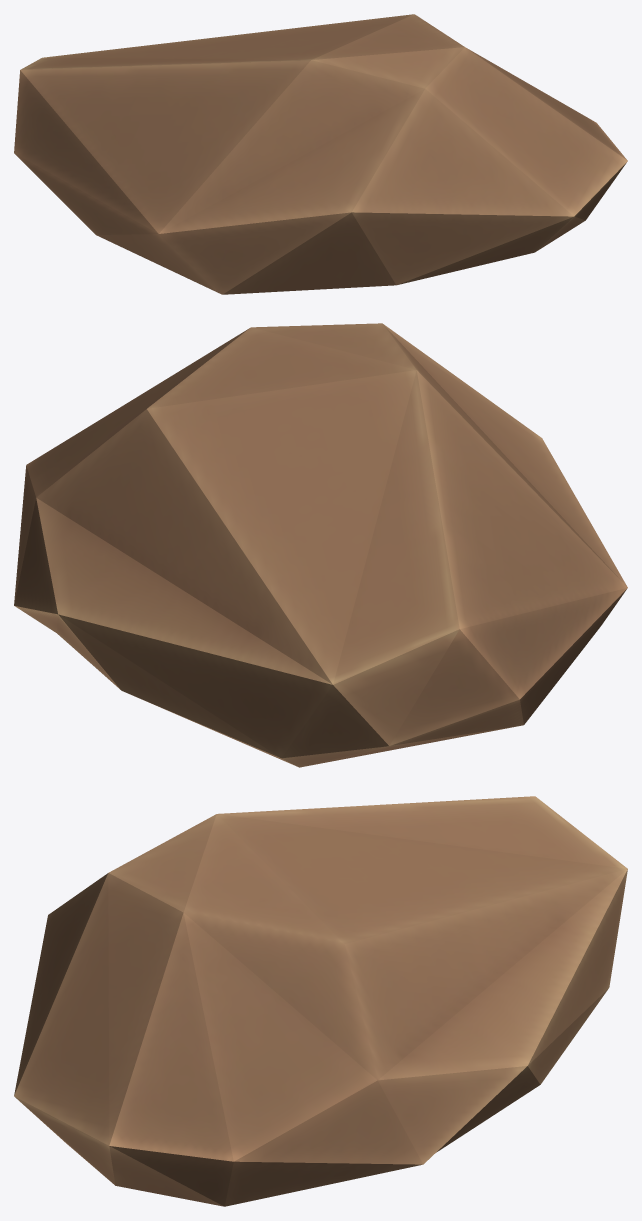
File: Rock_49.fbx
The picture shows the model from 3 angles, top to bottom: view 1: azimuth 30°, elevation 25°; view 2: azimuth 150°, elevation 25°; view 3: azimuth 270°, elevation 25°; orthographic projection. The views are drawn at different scales.
Parts seen in each view (by area): view 1: Rock_49; view 2: Rock_49; view 3: Rock_49.
Boxes of the visible parts, left/top/right/bottom form: Rock_49: left=14, top=14, right=627, bottom=294; Rock_49: left=14, top=323, right=627, bottom=767; Rock_49: left=14, top=796, right=627, bottom=1206.
Size of the model in its own units: 37.4 by 33.53 by 13.93.
